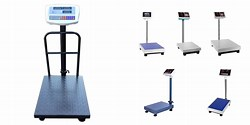Industrial Scale: (34, 4, 91, 122), (144, 67, 174, 116), (206, 67, 236, 116), (210, 11, 240, 56), (139, 11, 165, 57), (175, 9, 200, 55)
